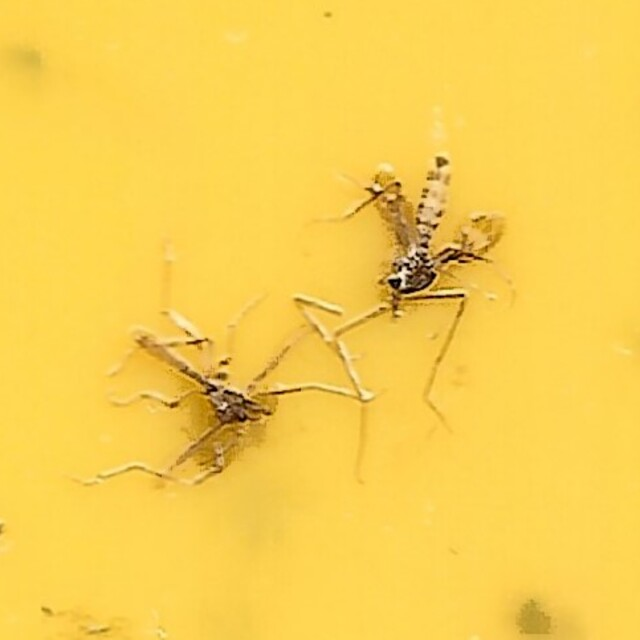Nematocera: (133, 315, 280, 492), (363, 148, 507, 322)
